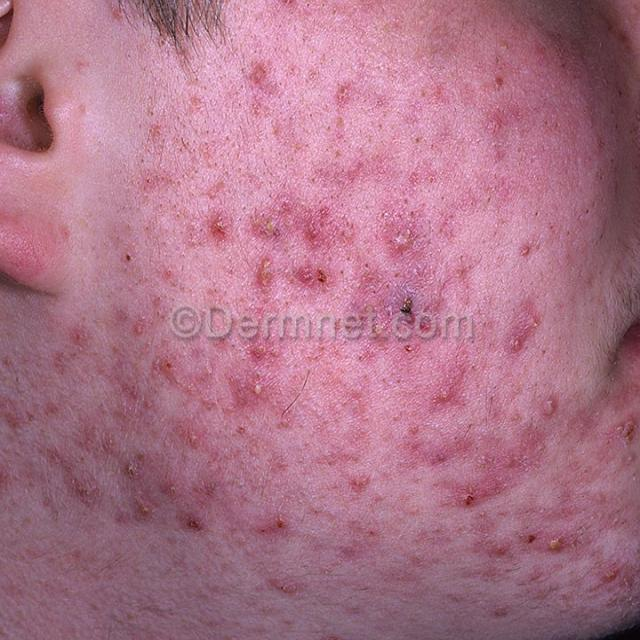Acne: (479, 426, 545, 474), (400, 425, 469, 469), (423, 354, 470, 416), (113, 377, 160, 432), (380, 205, 426, 259), (432, 474, 501, 509), (337, 514, 383, 565), (504, 298, 543, 357), (226, 371, 278, 412), (288, 259, 340, 296), (148, 346, 190, 390), (302, 200, 335, 252), (594, 558, 640, 594), (245, 206, 287, 244), (250, 506, 296, 540), (470, 533, 518, 561), (202, 207, 236, 245), (266, 570, 312, 598), (328, 73, 361, 110), (69, 472, 102, 508), (127, 490, 160, 524), (0, 396, 28, 435), (545, 532, 592, 555), (251, 251, 276, 294), (611, 411, 640, 447), (244, 58, 274, 92), (116, 452, 145, 487), (63, 320, 94, 352), (177, 422, 209, 452), (342, 468, 376, 496), (176, 507, 210, 535), (273, 188, 300, 222), (156, 475, 186, 505), (514, 234, 546, 262), (245, 342, 282, 366), (481, 104, 507, 136), (538, 393, 562, 423), (126, 315, 150, 342)
